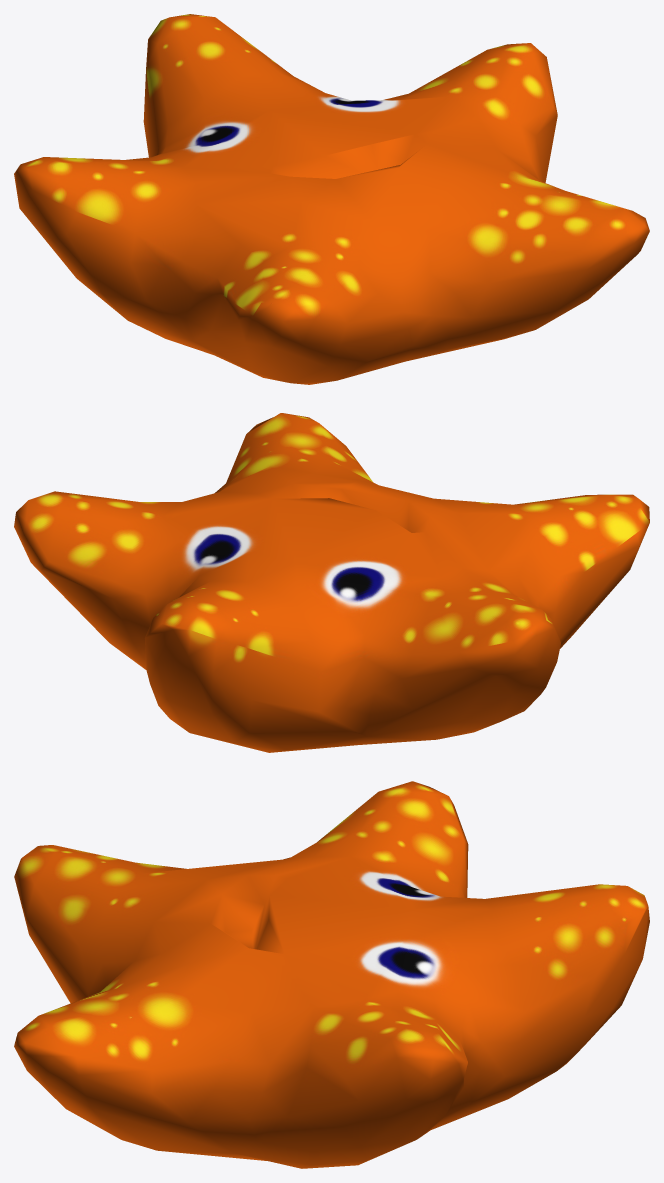
Rendered from sstella_dec2_LOD1.fbx.
3 views of the same model, one above another, from view 1: azimuth 30°, elevation 25°; view 2: azimuth 150°, elevation 25°; view 3: azimuth 270°, elevation 25° (orthographic). The views are drawn at different scales.
Visible parts, largest first — view 1: Group57341; view 2: Group57341; view 3: Group57341.
Part boxes in pixels (<box>): Group57341: <box>14,14,649,384</box>; Group57341: <box>14,413,649,752</box>; Group57341: <box>14,781,649,1168</box>.
Size of the model in its own units: 1045 by 407 by 1026.
1 material, 1 textured.
